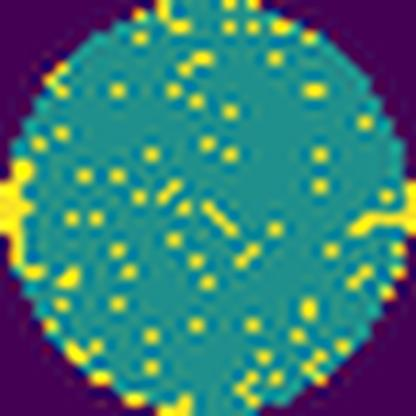Edge-Loc: (0, 158, 42, 281), (342, 180, 416, 237)
